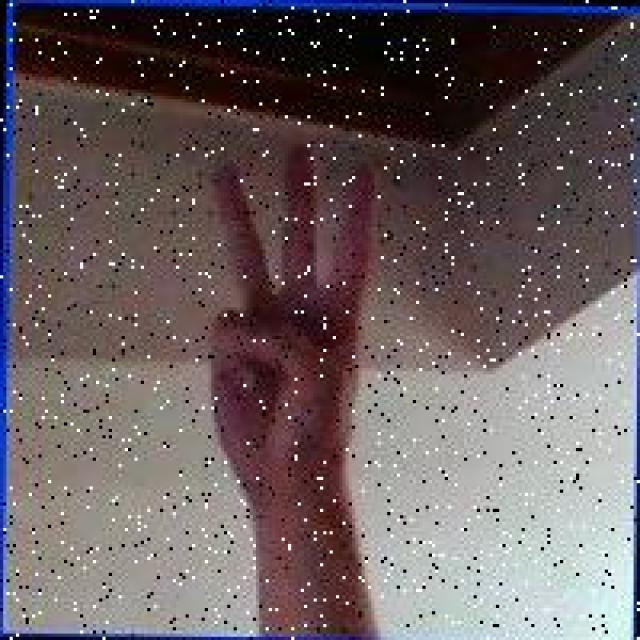W: (202, 136, 380, 498)
